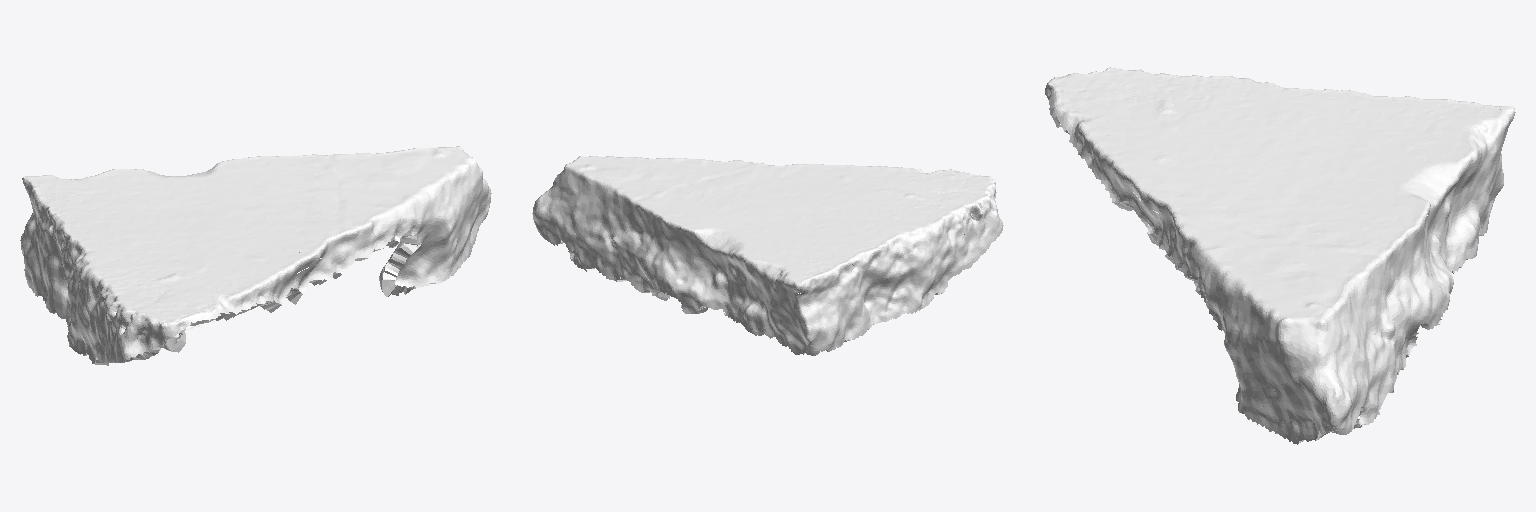
The robot description file, URDF, robot "frag4_top_calib_scaled":
<?xml version="1.0"?>
<robot name="frag4_top_calib_scaled">
  <material name="Blanc">
    <color rgba="1.0 1.0 1.0 1.0"/>
  </material>
  <link name="base_link">
    <visual>
      <origin xyz="0 0 0" rpy="0 0 0"/>
      <geometry>
        <mesh filename="frag4_small.stl"/>
      </geometry>
      <material name="Blanc"/>
    </visual>
    <collision>
      <origin xyz="0 0 0" rpy="0 0 0"/>
      <geometry>
	 	     <mesh filename="frag4_small.stl"/>
      </geometry>
    </collision>
    <contact>
      <lateral_friction value="2.0"/>
      <rolling_friction value="0.0001"/>
      <inertia_scaling value="3.0"/>
    </contact>
    <inertial>
      <origin rpy="0 0 0" xyz="0 0 0"/>
       <mass value="0.05"/>
       <inertia ixx="1" ixy="0" ixz="0" iyy="1" iyz="0" izz="1"/>
    </inertial>
  </link>

</robot>

--- What the picture shows (computed from the rendered views, not written in the file) ---
The picture shows the robot from 3 angles, left to right: view 1: azimuth 30°, elevation 25°; view 2: azimuth 150°, elevation 25°; view 3: azimuth 270°, elevation 25°; orthographic projection.
Robot: frag4_top_calib_scaled — 1 links, 0 joints (none); root link base_link; default pose: every joint at zero.
Links seen in each view (by area): view 1: base_link; view 2: base_link; view 3: base_link.
Link boxes in pixels (x1=…): base_link: x1=20, y1=146, x2=491, y2=365; base_link: x1=532, y1=156, x2=1003, y2=355; base_link: x1=1045, y1=67, x2=1515, y2=444.
Size in the robot's own frame: 0.1085 by 0.0775 by 0.0244 metres.
Meshes: 1 distinct files referenced, 1 mesh visuals loaded (1 binary STL).
